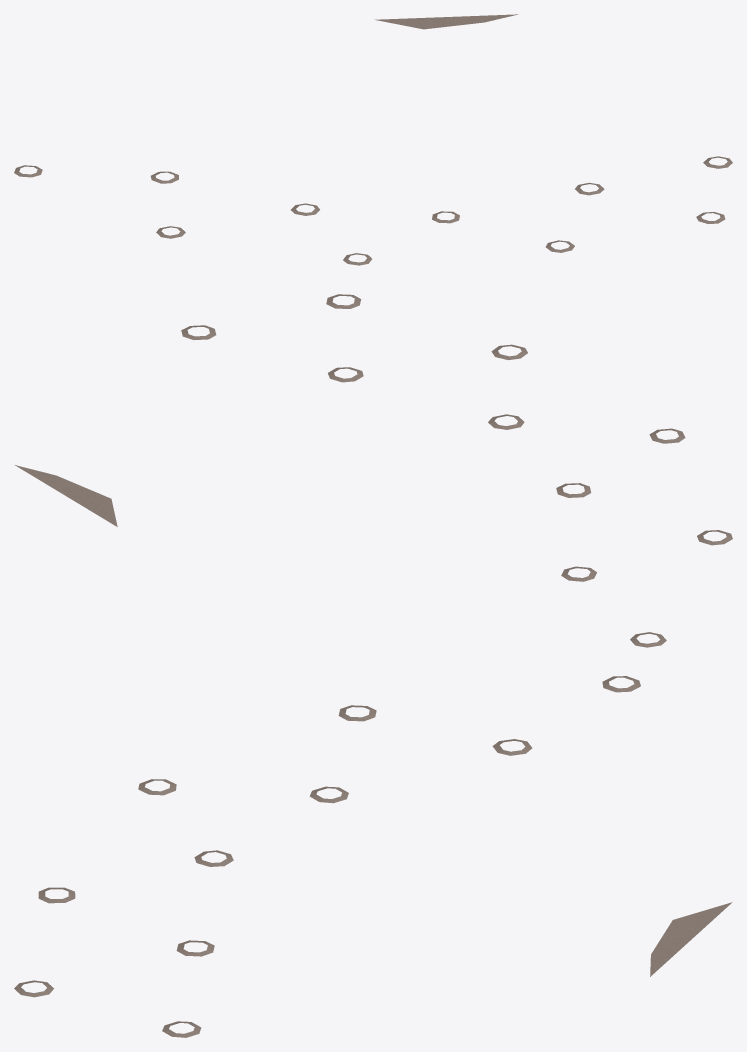
The model's file is kd_stage_1363c5_8_10_bounded.glb.
3 views of the same model, one above another, from view 1: azimuth 30°, elevation 25°; view 2: azimuth 150°, elevation 25°; view 3: azimuth 270°, elevation 25° (orthographic). The views are drawn at different scales.
Parts seen in each view (by area): view 1: kd_stage_1363c5_8_10_bounded; view 2: kd_stage_1363c5_8_10_bounded; view 3: kd_stage_1363c5_8_10_bounded.
Boxes of the visible parts, x1,y1,x2,y2 form: kd_stage_1363c5_8_10_bounded: [14, 14, 732, 265]; kd_stage_1363c5_8_10_bounded: [15, 294, 732, 647]; kd_stage_1363c5_8_10_bounded: [14, 676, 732, 1037].
Size of the model in its own units: 32.06 by 1.49 by 26.93.
Materials: 1 (1 with a texture image).
